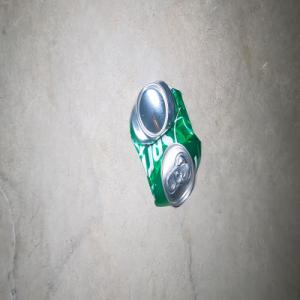SodaCan: (129, 79, 201, 207)
